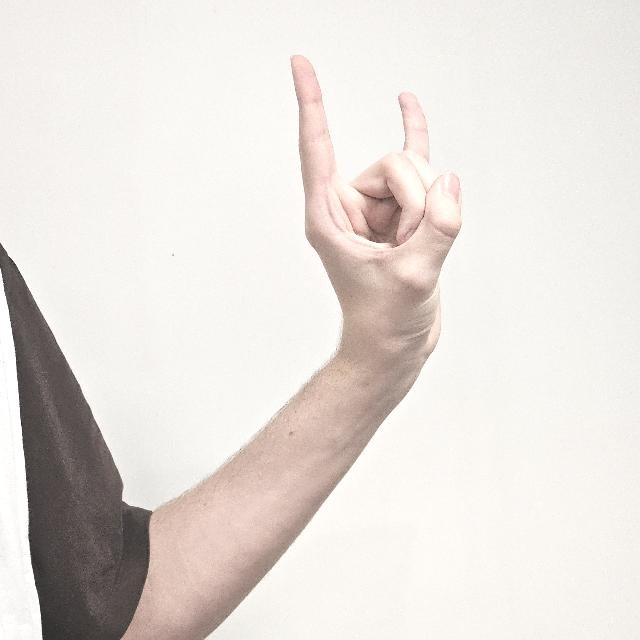L: (288, 51, 460, 376)
